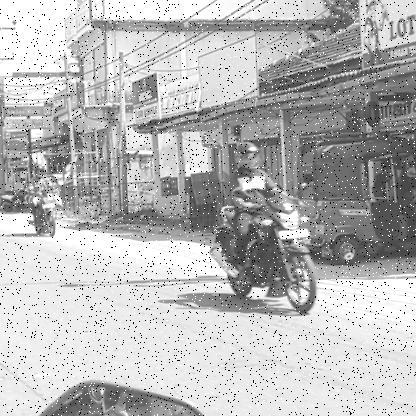motorcycle: (208, 194, 322, 316), (26, 188, 64, 238)
